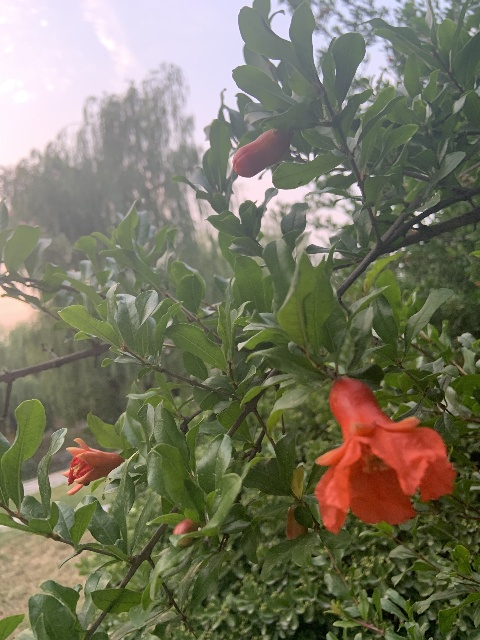bud: (231, 129, 289, 178), (286, 504, 307, 540), (172, 517, 196, 545)
flower: (313, 373, 456, 532), (61, 438, 123, 494)
